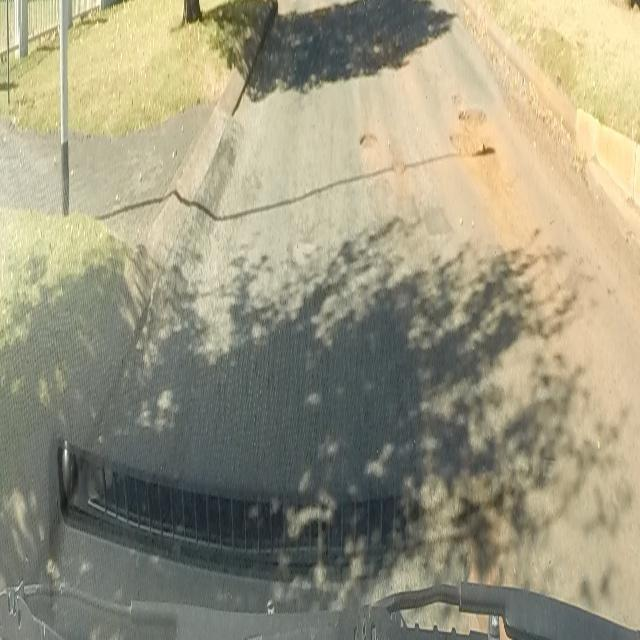pothole: (449, 100, 493, 162), (356, 128, 382, 152)
